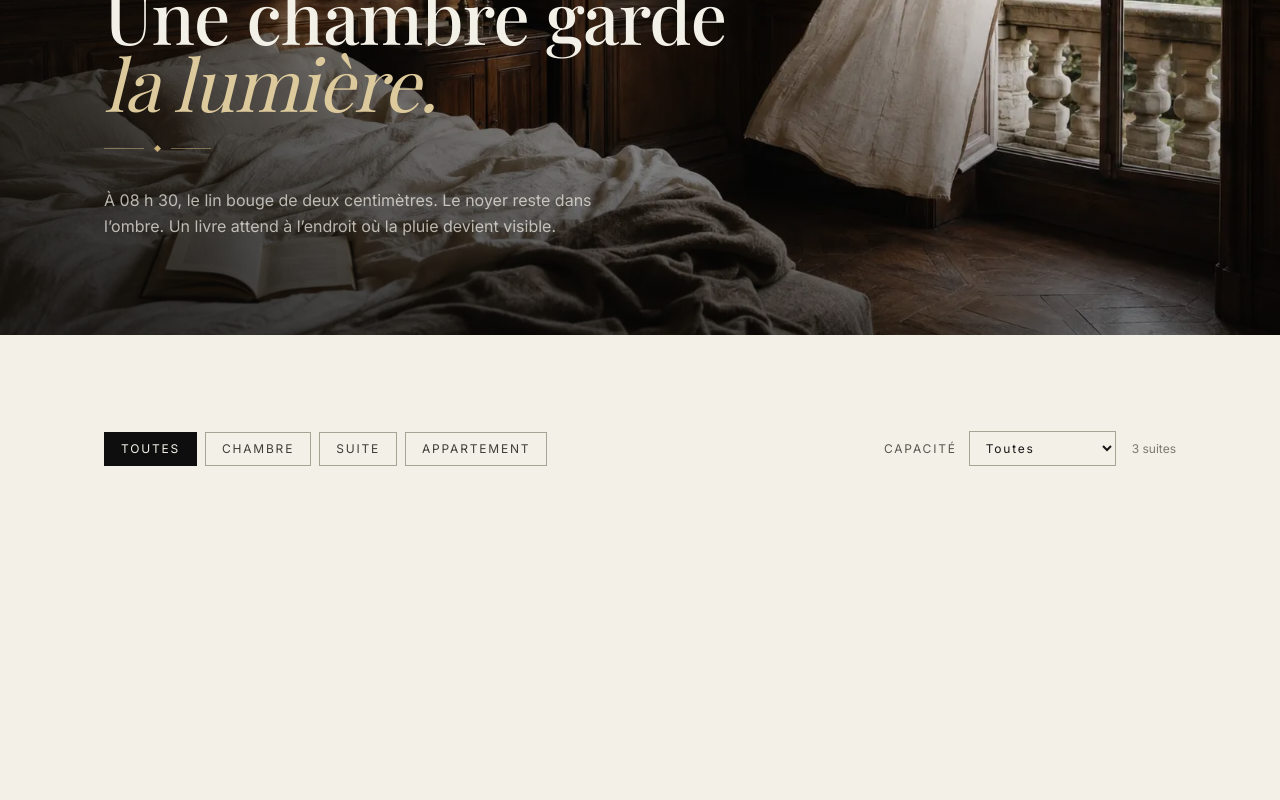
it: SuitesList › filtre par capacité et gère l’absence de résultat
(page scrolled)
Step 1. Select "4+ personnes" in the dropdown → (1042, 448), box [969, 431, 1116, 466]
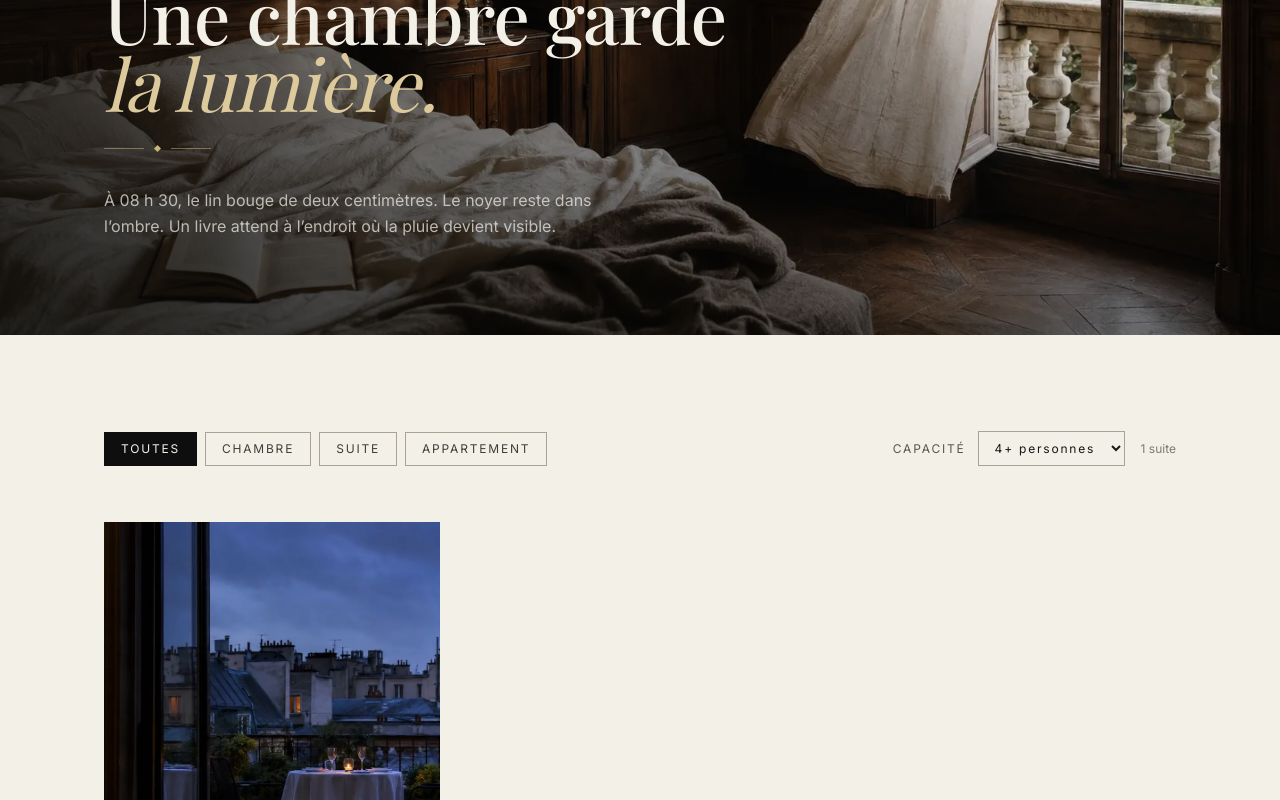
Step 2. Click the button "Chambre" → (258, 448), box [205, 432, 311, 466]
(page scrolled)
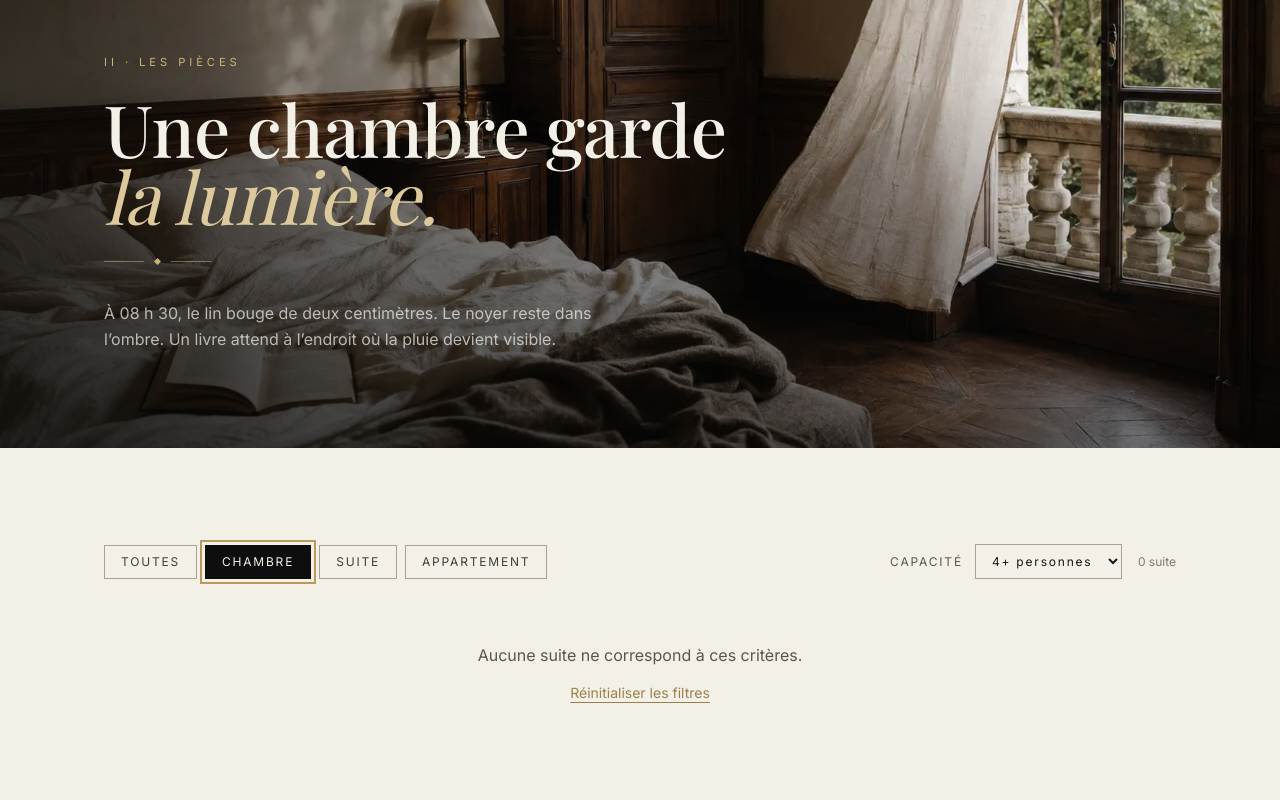
expect the text "Aucune suite ne correspond à ces critères." is shown: met, box [478, 645, 802, 665]
